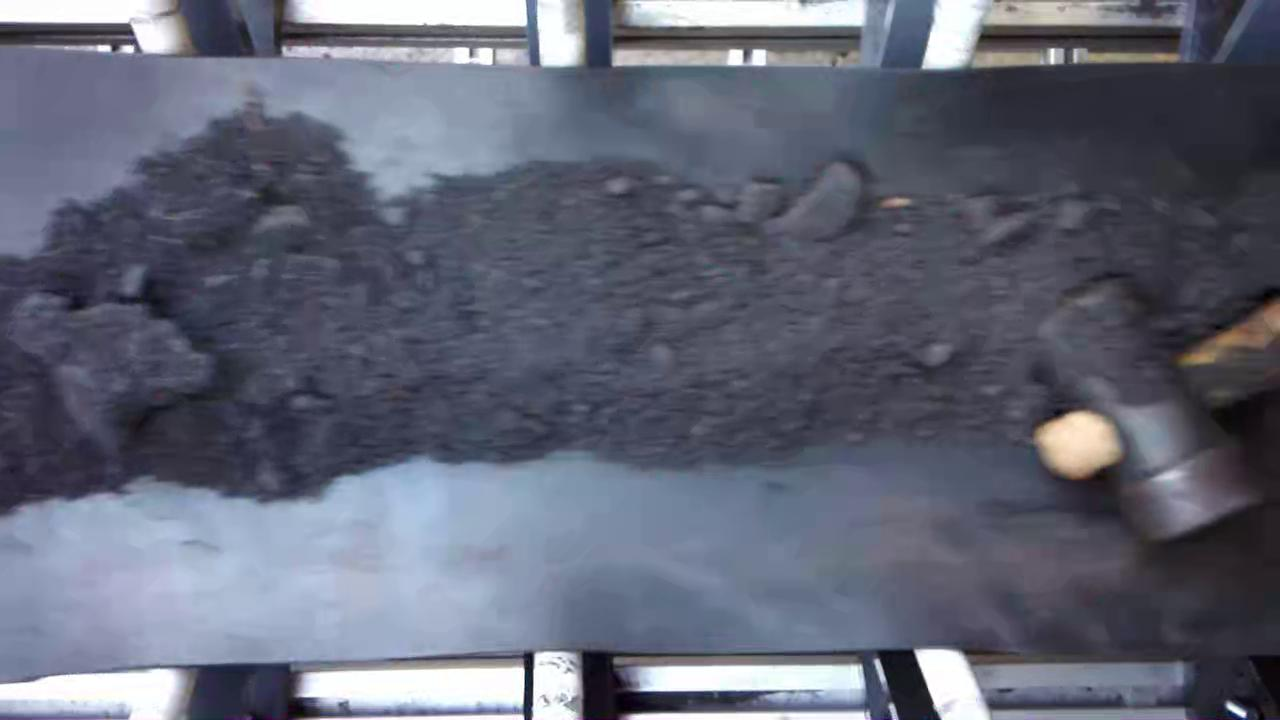conveyor: (3, 74, 1280, 654)
